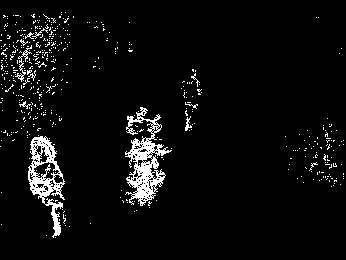person: (31, 133, 74, 237), (182, 66, 201, 137)
